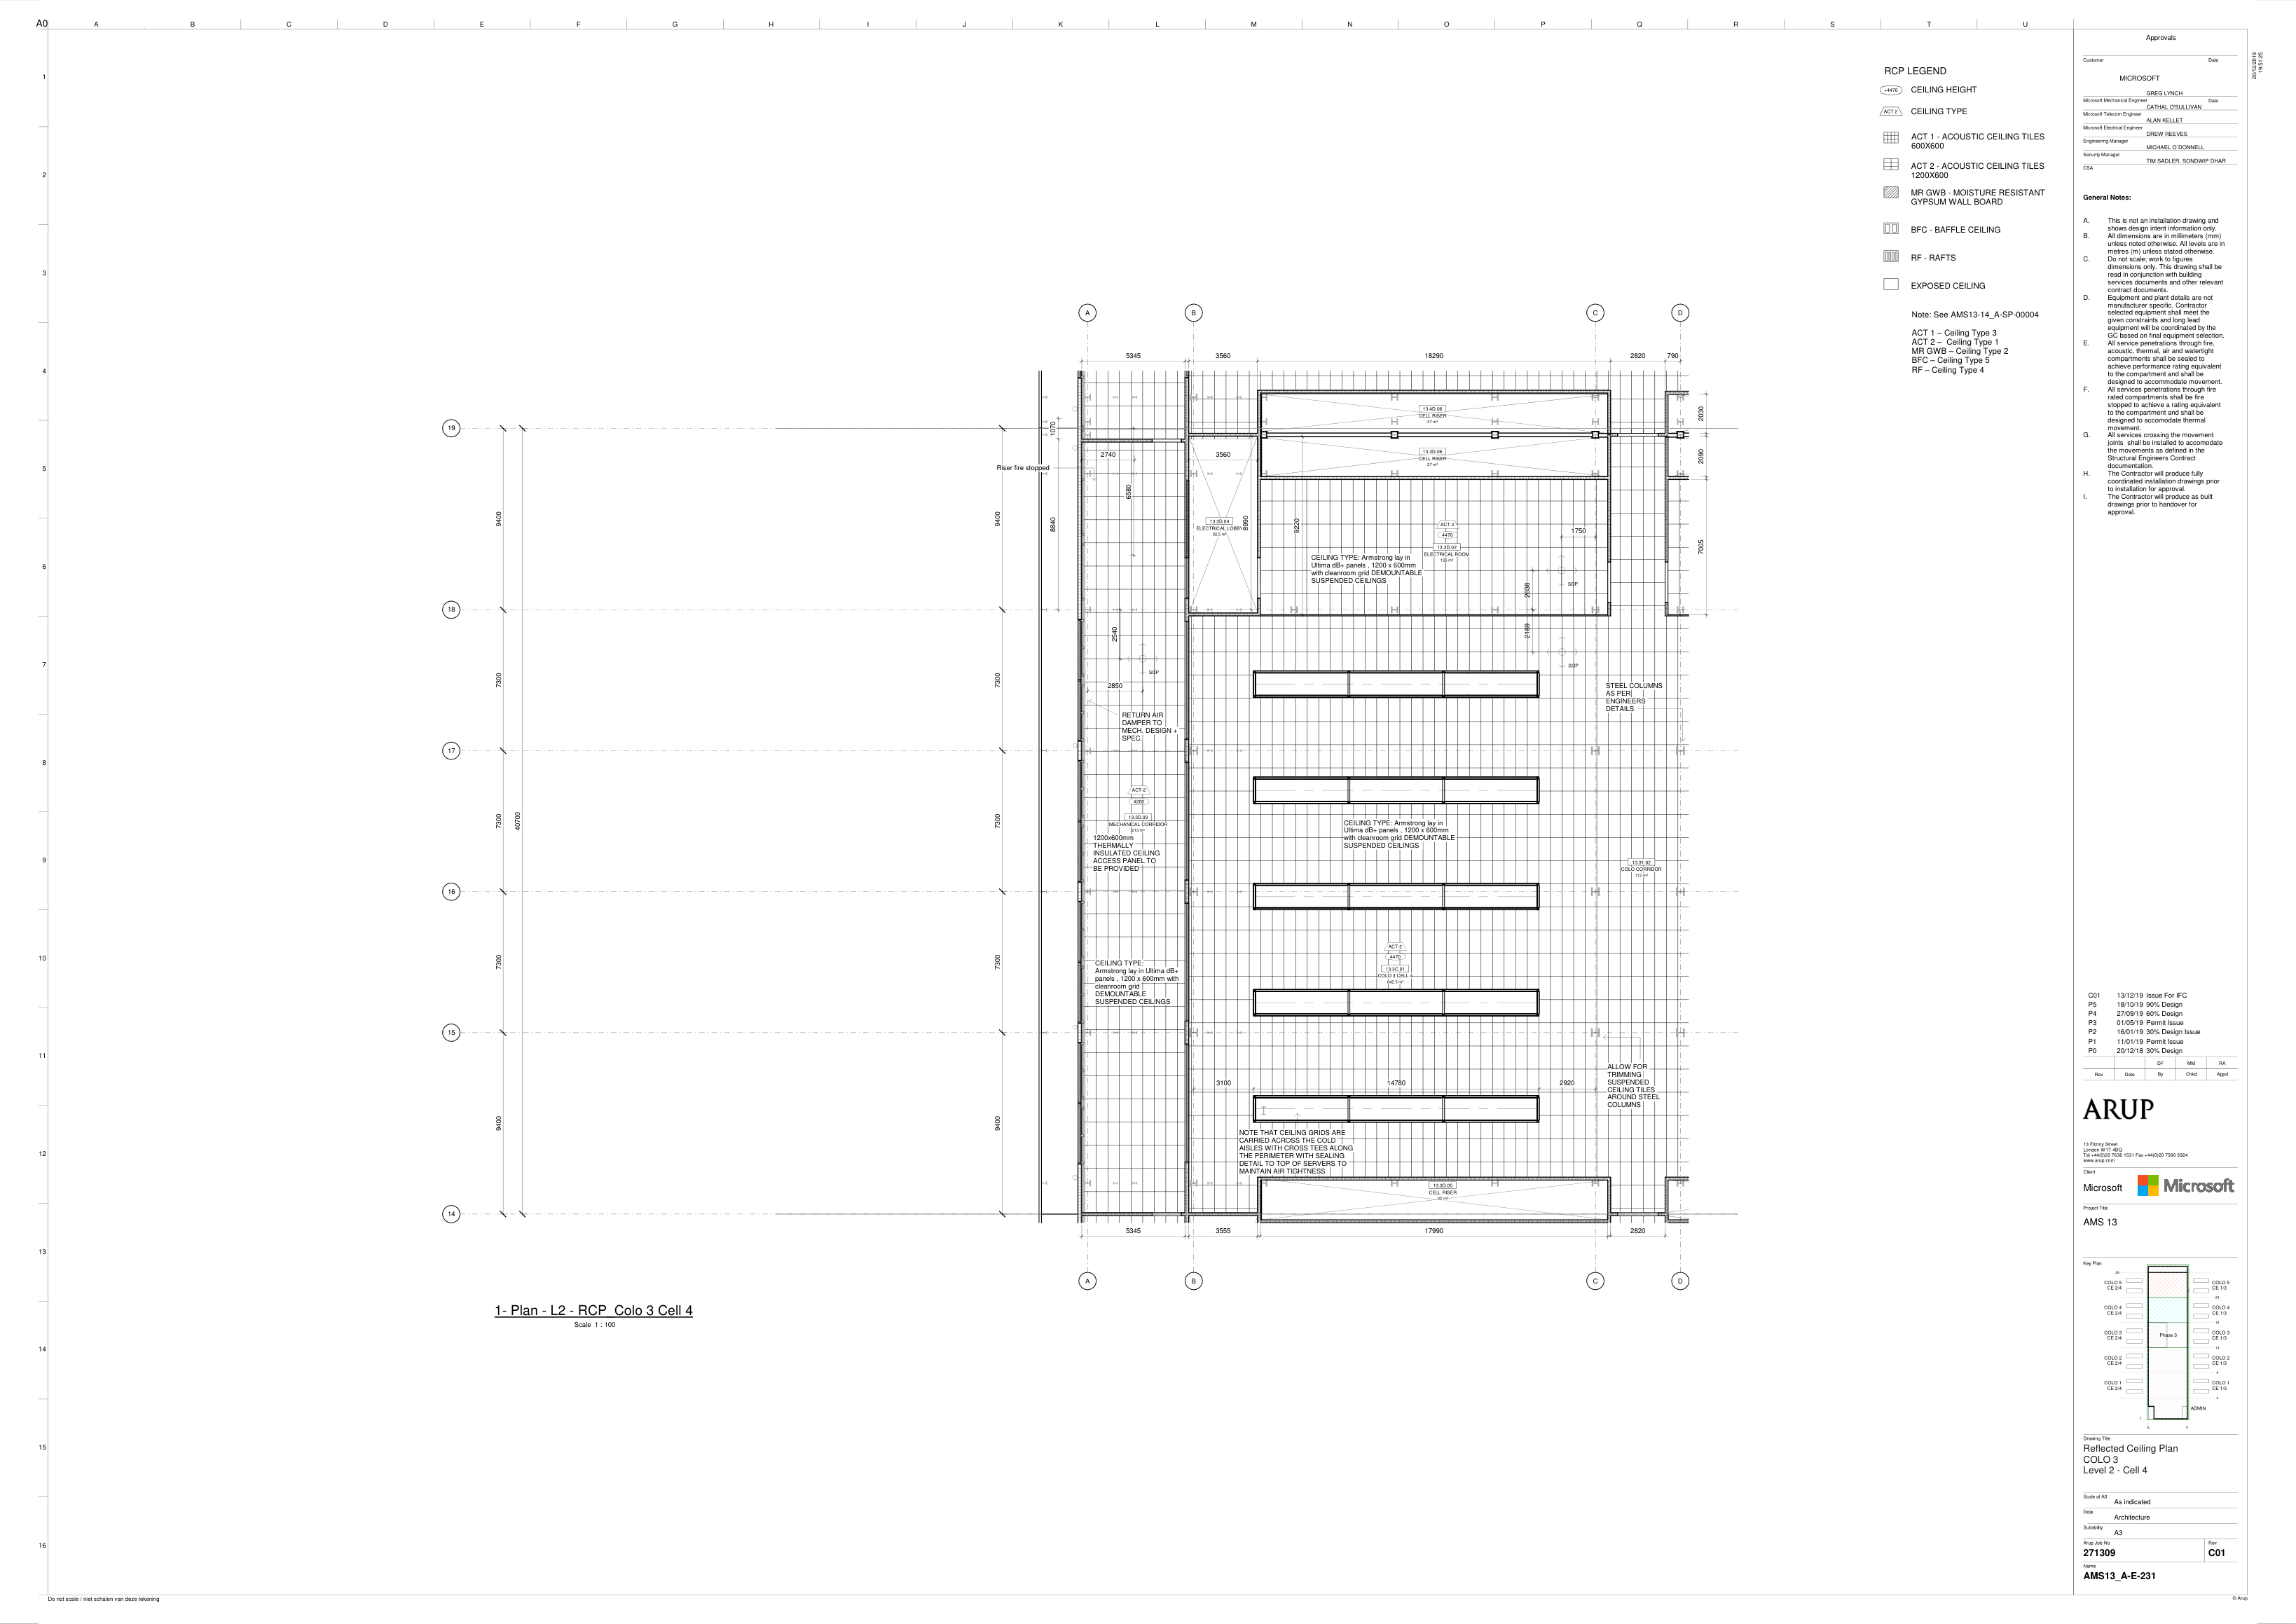Legend: (1878, 63, 2046, 374)
